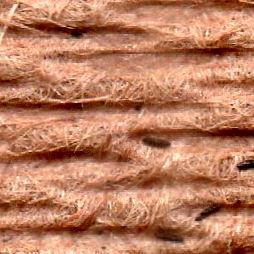egg: (195, 206, 221, 220), (143, 136, 170, 147), (156, 231, 182, 241), (239, 160, 253, 169)
